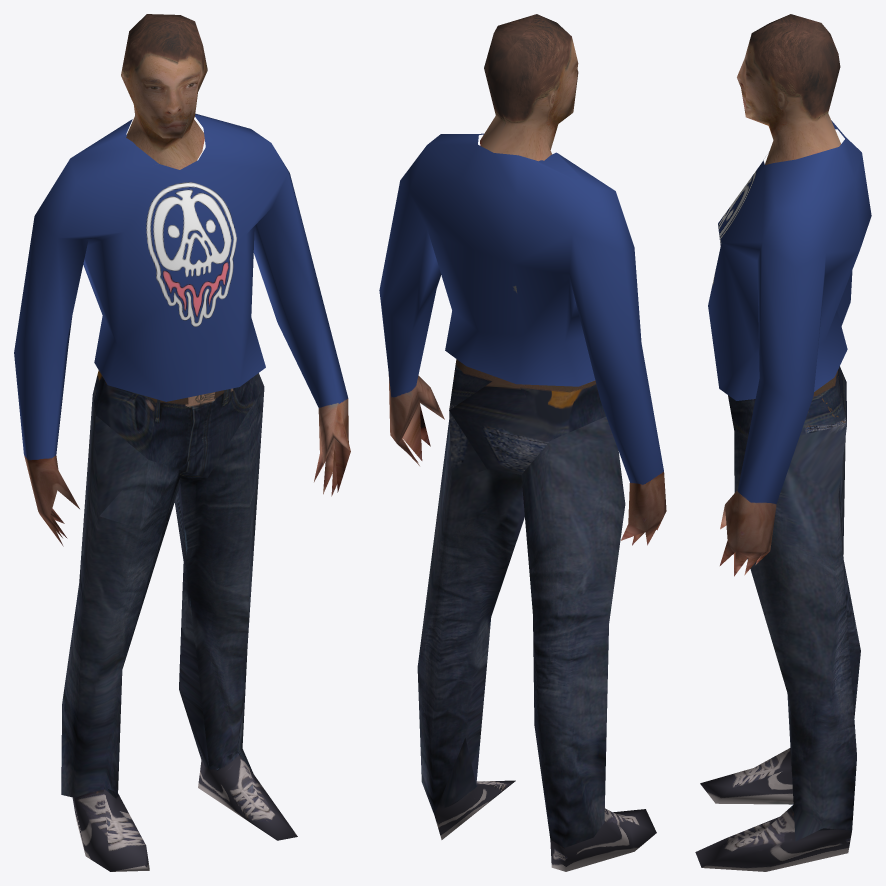
The model's file is man-casual-blue-cbj_LOD01.gltf.
3 views of the same model, side by side, from view 1: azimuth 30°, elevation 25°; view 2: azimuth 150°, elevation 25°; view 3: azimuth 270°, elevation 25° (orthographic).
Parts seen in each view (by area): view 1: trunk, legs, head; view 2: legs, trunk, head; view 3: legs, trunk, head.
Boxes of the visible parts, x1,y1,x2,y2 form: trunk: (14,113,350,546); legs: (61,370,297,871); head: (121,14,207,169); legs: (417,359,656,871); trunk: (379,133,666,545); head: (480,14,578,161); legs: (695,366,860,871); trunk: (708,120,871,576); head: (737,14,840,164).
Size of what is drawn, in the model's own units: 0.7042 by 1.84 by 0.3637.
